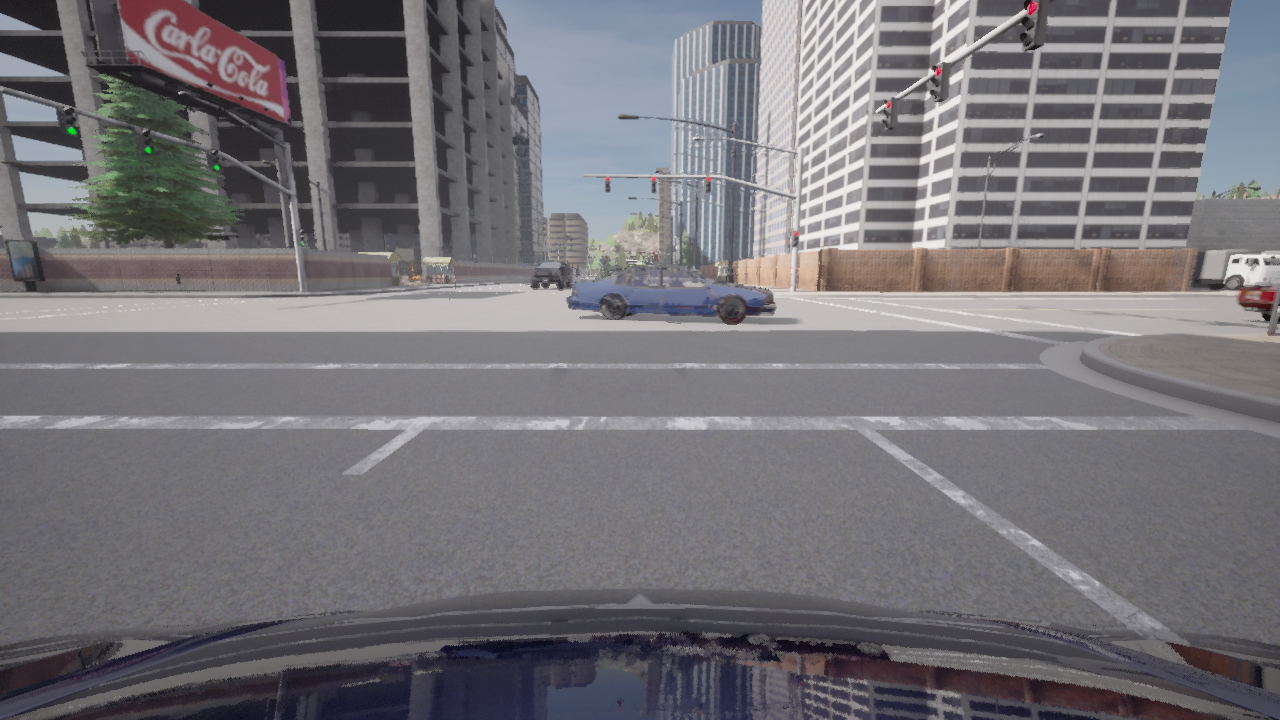cyclist: (0, 588, 1279, 719), (567, 265, 775, 323), (1192, 250, 1279, 290), (1236, 286, 1279, 322), (531, 262, 571, 288), (596, 264, 622, 279), (1260, 250, 1279, 253), (622, 267, 635, 271), (634, 265, 645, 266)
pedestrian: (173, 272, 189, 292)
